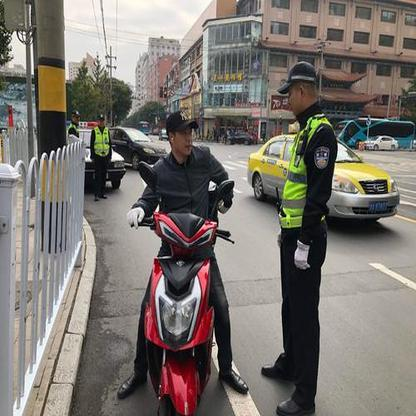target: (117, 110, 249, 409)
